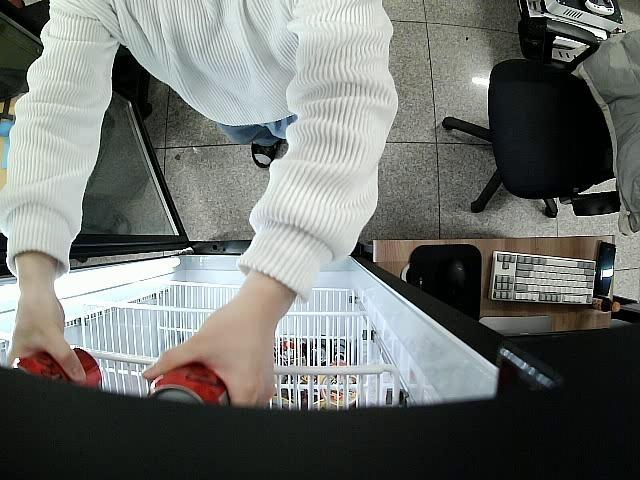11_cocaColaZero: (146, 362, 233, 408), (11, 346, 102, 389)
